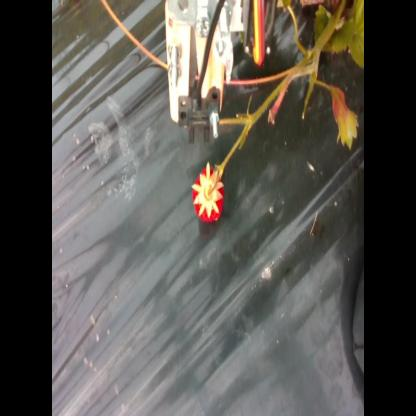ripe: (189, 163, 229, 226)
